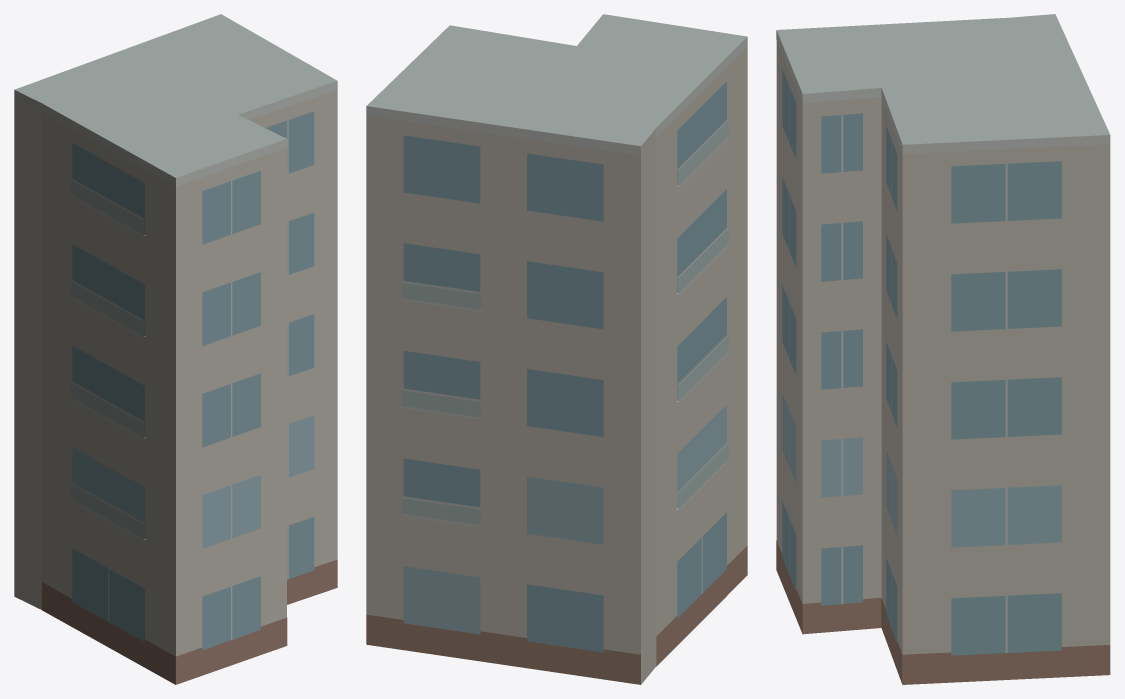
Rendered from survey-upis-33009358.glb.
3 renders of one model, left to right at view 1: azimuth 30°, elevation 25°; view 2: azimuth 150°, elevation 25°; view 3: azimuth 270°, elevation 25°, orthographic. The views are drawn at different scales.
Parts seen in each view (by area): view 1: survey-upis-33009358.tmp; view 2: survey-upis-33009358.tmp; view 3: survey-upis-33009358.tmp.
Part boxes in pixels (box(x1,y1,x2,y2)): survey-upis-33009358.tmp: box(14, 14, 337, 684); survey-upis-33009358.tmp: box(366, 14, 747, 684); survey-upis-33009358.tmp: box(776, 14, 1110, 684).
Bounding box in the file's own units: 7.39 × 14.2 × 7.97.
